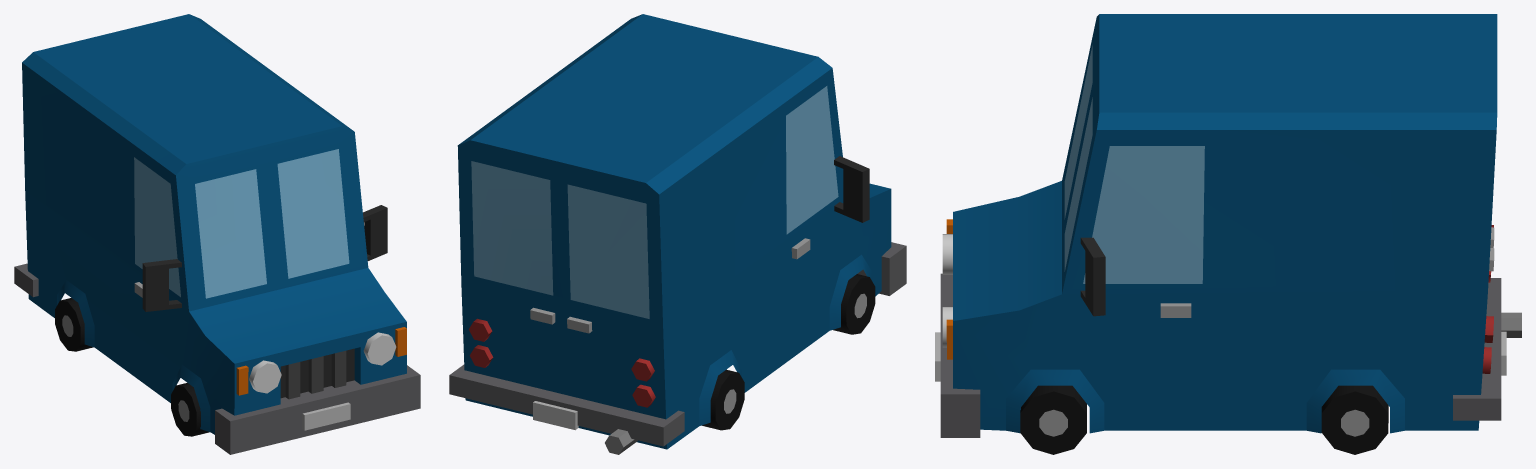
File: Car_07_blue.fbx
3 views of the same model, side by side, from view 1: azimuth 30°, elevation 25°; view 2: azimuth 150°, elevation 25°; view 3: azimuth 270°, elevation 25° (orthographic). The views are drawn at different scales.
Parts seen in each view (by area): view 1: Car_07_blue; view 2: Car_07_blue; view 3: Car_07_blue.
Part boxes in pixels (x1,y1,x2,y2): Car_07_blue: (14, 14, 420, 454); Car_07_blue: (449, 14, 906, 454); Car_07_blue: (935, 14, 1521, 454).
Bounding box in the file's own units: 65.22 × 65.28 × 105.
